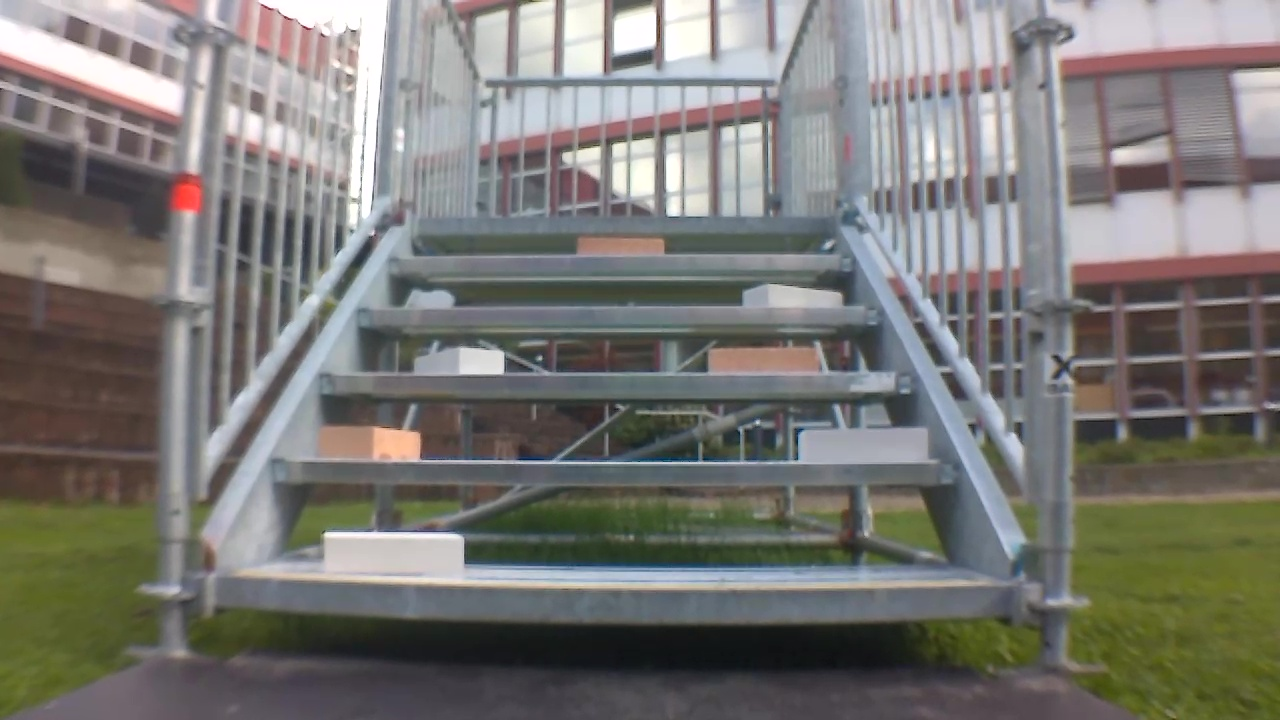brick: (322, 528, 465, 578), (786, 425, 933, 465), (321, 428, 423, 461), (707, 348, 814, 374), (737, 283, 848, 307), (414, 346, 505, 373), (576, 234, 665, 256)
edge: (210, 576, 1022, 612), (266, 457, 961, 483), (321, 370, 918, 397), (351, 304, 886, 332), (382, 253, 858, 275), (411, 215, 831, 235)
stairs: (143, 0, 1058, 667)
steps: (199, 213, 1030, 616)
